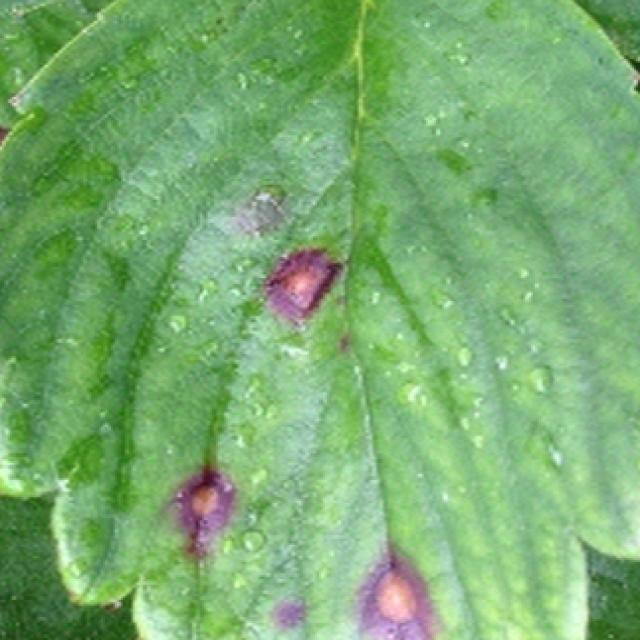Leaf Spot: (0, 0, 640, 640)
